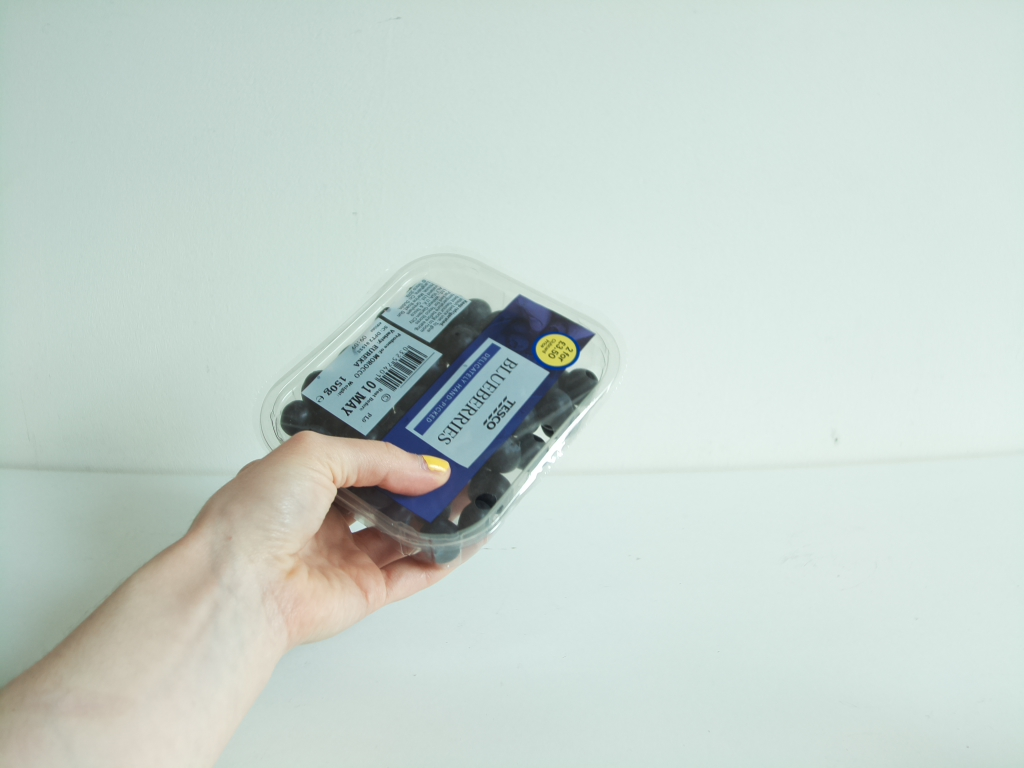soft-fruit: (270, 249, 622, 570)
